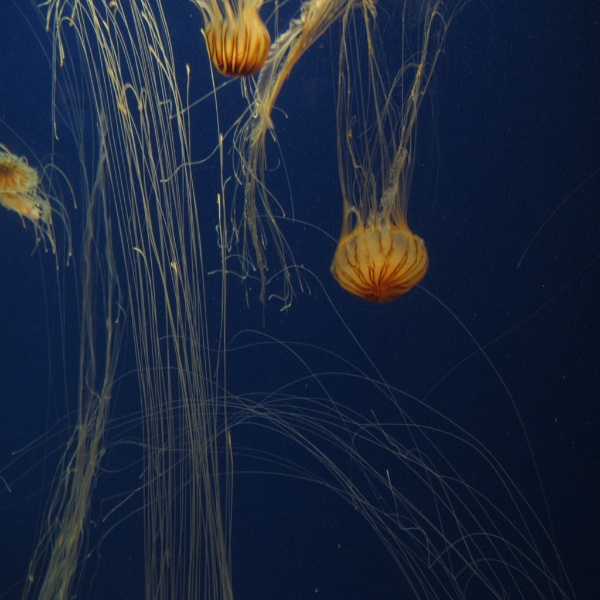Jellyfish: (328, 0, 468, 302), (0, 139, 84, 266), (192, 0, 274, 76)
